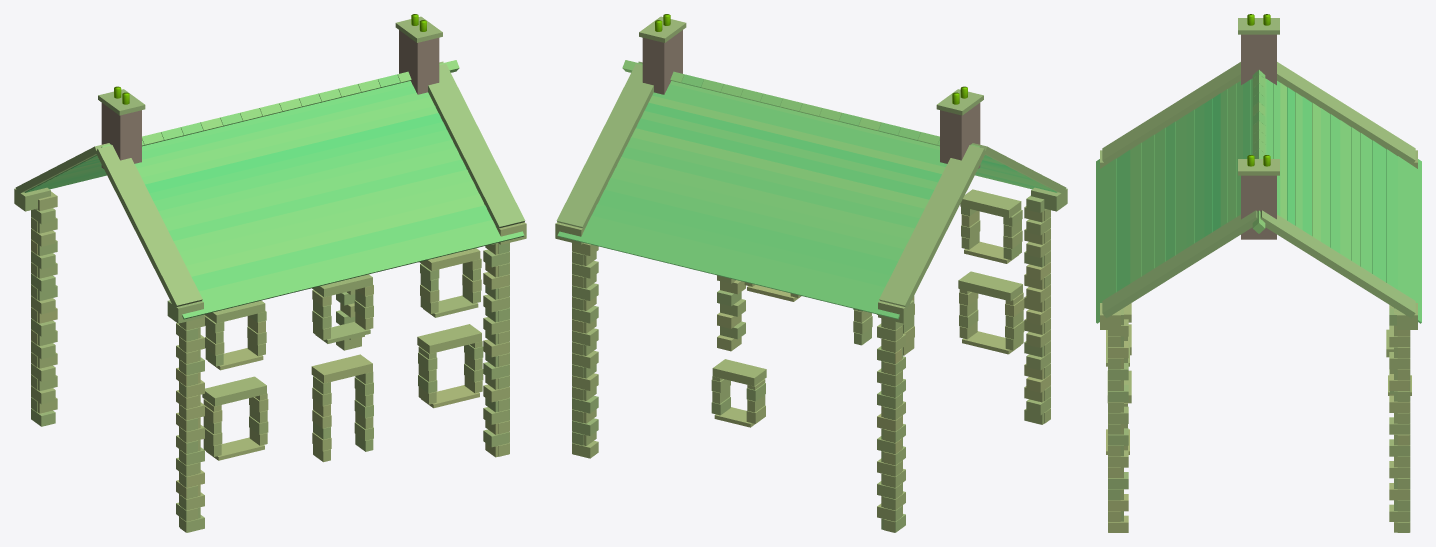
File: SM_Bld_156_Stone.glb
3 renders of one model, left to right at view 1: azimuth 30°, elevation 25°; view 2: azimuth 150°, elevation 25°; view 3: azimuth 270°, elevation 25°, orthographic. The views are drawn at different scales.
Visible parts, largest first — view 1: SM_Bld_156_Stone; view 2: SM_Bld_156_Stone; view 3: SM_Bld_156_Stone.
Boxes of the visible parts, left/top/right/bottom form: SM_Bld_156_Stone: left=14, top=14, right=526, bottom=532; SM_Bld_156_Stone: left=555, top=14, right=1067, bottom=532; SM_Bld_156_Stone: left=1096, top=14, right=1421, bottom=532.
Bounding box in the file's own units: 10.05 × 10.18 × 8.11.
